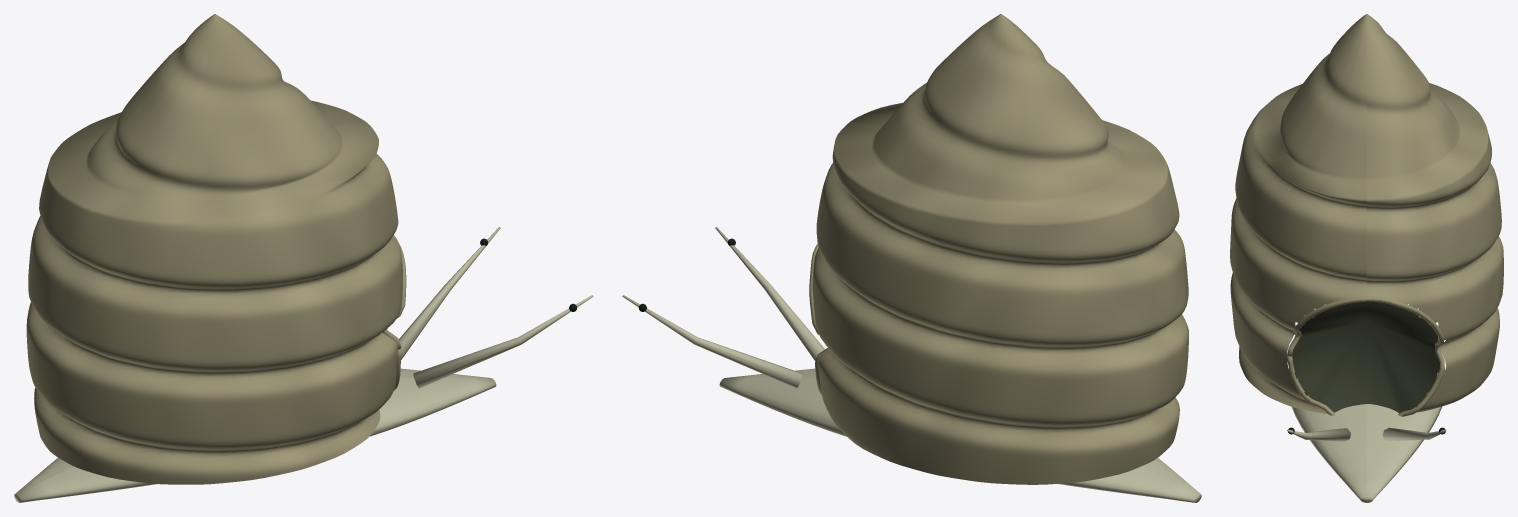
Rendered from bladder-desktop.glb.
3 views of the same model, side by side, from view 1: azimuth 30°, elevation 25°; view 2: azimuth 150°, elevation 25°; view 3: azimuth 270°, elevation 25° (orthographic). The views are drawn at different scales.
Visible parts, largest first — view 1: connected-whorled-shell, muscular-foot, cephalic-tentacle; view 2: connected-whorled-shell, muscular-foot, cephalic-tentacle; view 3: connected-whorled-shell, recessed-aperture, muscular-foot, aperture-lip, cephalic-tentacle.
Boxes of the visible parts, x1,y1,x2,y2 form: connected-whorled-shell: (26, 14, 402, 484); muscular-foot: (14, 368, 496, 502); cephalic-tentacle: (399, 227, 593, 388); connected-whorled-shell: (812, 14, 1188, 484); muscular-foot: (719, 368, 1201, 502); cephalic-tentacle: (622, 227, 824, 388); connected-whorled-shell: (1230, 14, 1503, 413); recessed-aperture: (1292, 301, 1439, 413); muscular-foot: (1288, 366, 1445, 502); aperture-lip: (1287, 296, 1444, 416); cephalic-tentacle: (1287, 427, 1446, 441).
Bounding box in the file's own units: 0.5905 × 0.469 × 0.3117.
